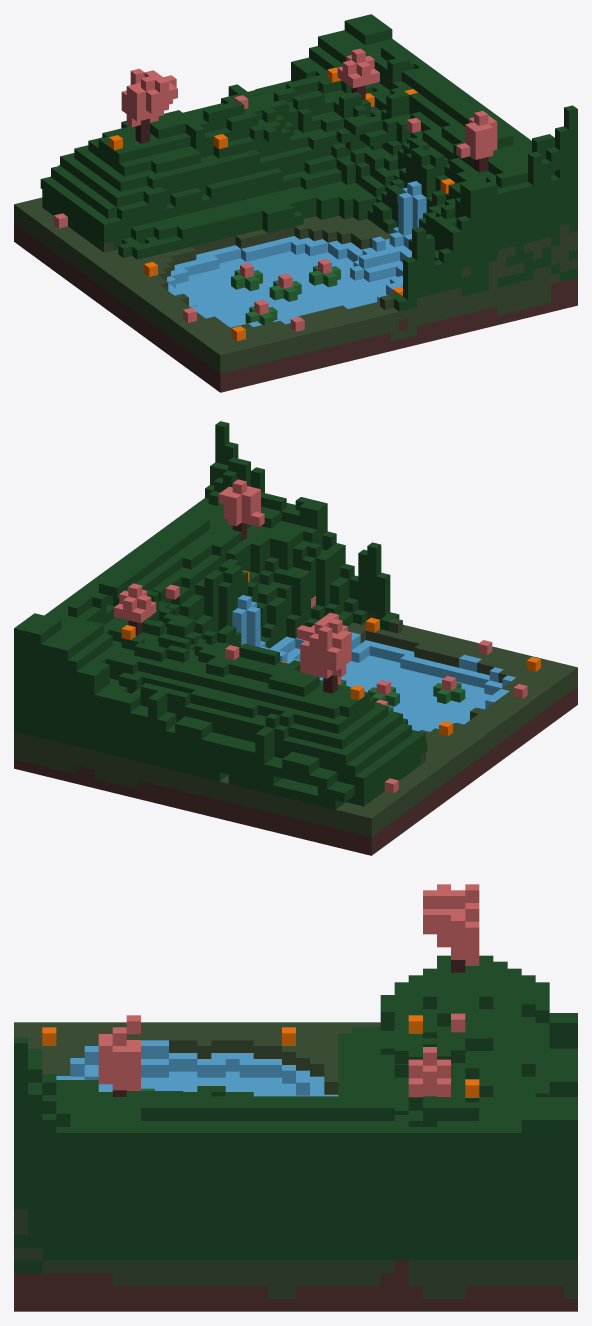
Rendered from F2A13_001 - darksoul 030.obj.
3 renders of one model, top to bottom at view 1: azimuth 30°, elevation 25°; view 2: azimuth 150°, elevation 25°; view 3: azimuth 270°, elevation 25°, orthographic. The views are drawn at different scales.
Size of the model in its own units: 4 by 2.1 by 4.
Materials: 1 (1 with a texture image).
